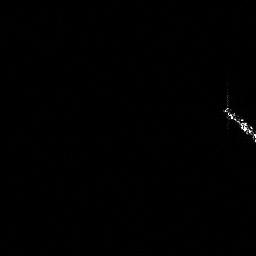ship: (220, 103, 256, 145)
